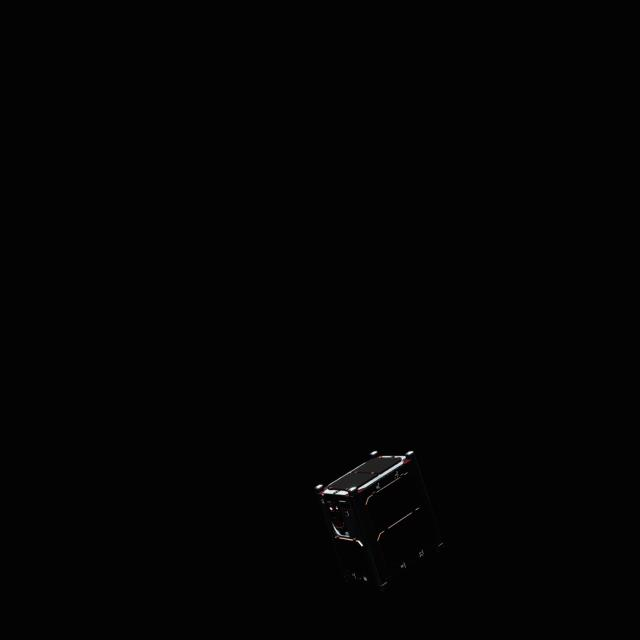satellite: (312, 446, 448, 592)
